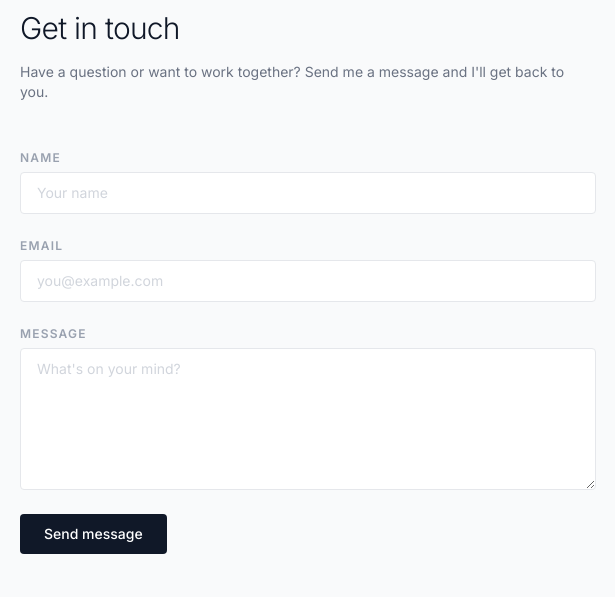
Test: Contact component › should show an error when email is malformed
In the field labelled "Name": (308, 193) top-left (20, 172), bottom-right (596, 214), type "Matt"
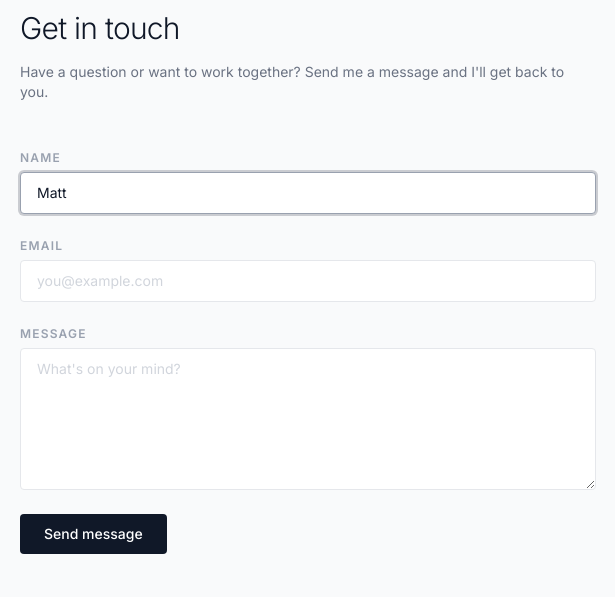
In the field labelled "Email": (308, 281) top-left (20, 260), bottom-right (596, 302), type "invalid-email-format"
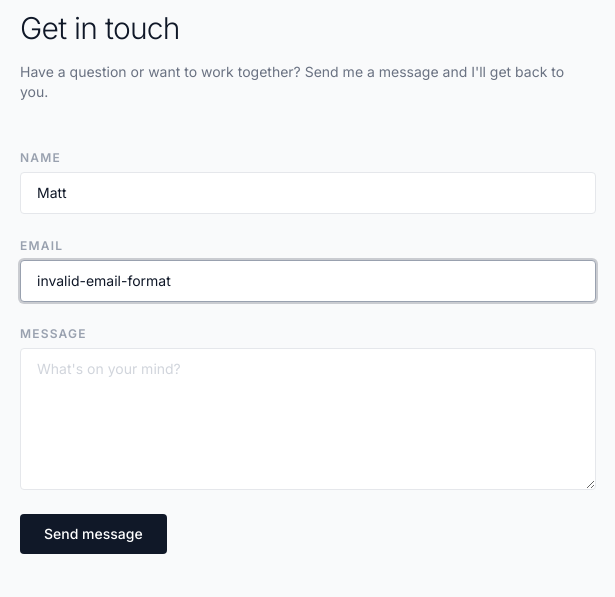
In the text box labelled "Message": (308, 419) top-left (20, 348), bottom-right (596, 490), type "Hello there!"
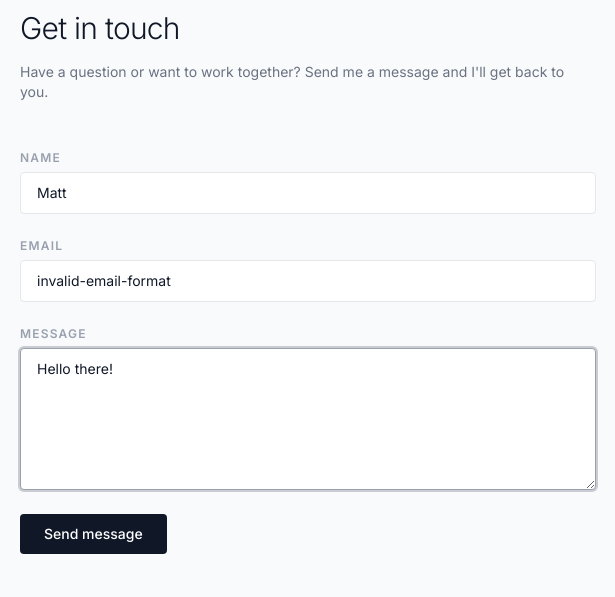
Click the button "Send message": (93, 534) top-left (20, 514), bottom-right (167, 554)
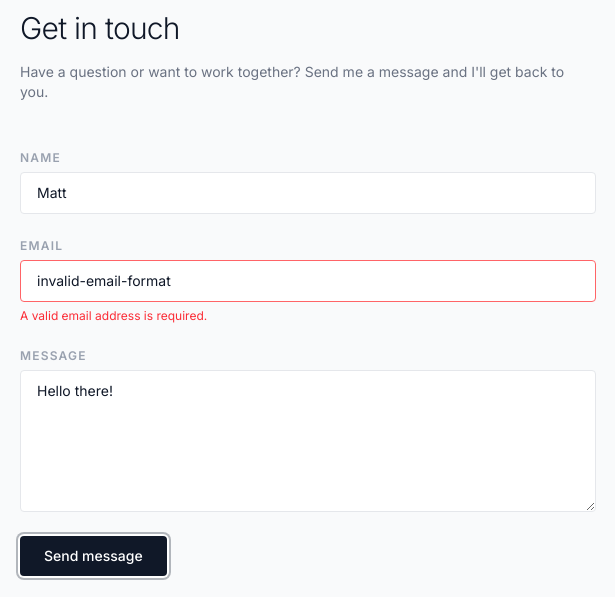
Check: the text "A valid email address is required." is shown, box top-left (20, 308), bottom-right (207, 323)
